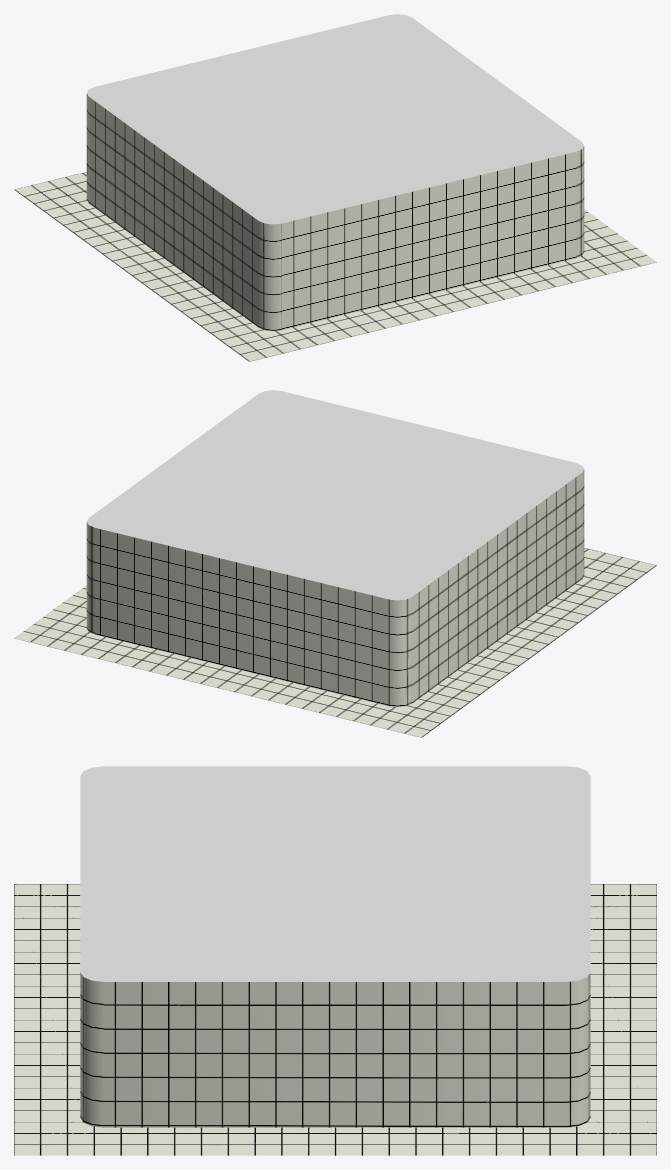
File: Ceiling_light.fbx
3 renders of one model, top to bottom at view 1: azimuth 30°, elevation 25°; view 2: azimuth 150°, elevation 25°; view 3: azimuth 270°, elevation 25°, orthographic. The views are drawn at different scales.
Parts seen in each view (by area): view 1: Ceiling_light; view 2: Ceiling_light; view 3: Ceiling_light.
Boxes of the visible parts, x1=… form: Ceiling_light: x1=14, y1=14, x2=656, y2=361; Ceiling_light: x1=14, y1=390, x2=656, y2=737; Ceiling_light: x1=14, y1=766, x2=656, y2=1155.
Size of the model in its own units: 400 by 100 by 400.
